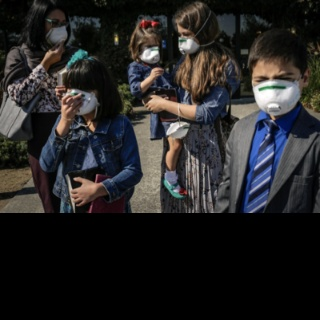with_mask: (252, 69, 303, 116), (67, 86, 98, 117), (45, 16, 70, 47), (178, 28, 201, 56), (140, 42, 161, 64)
